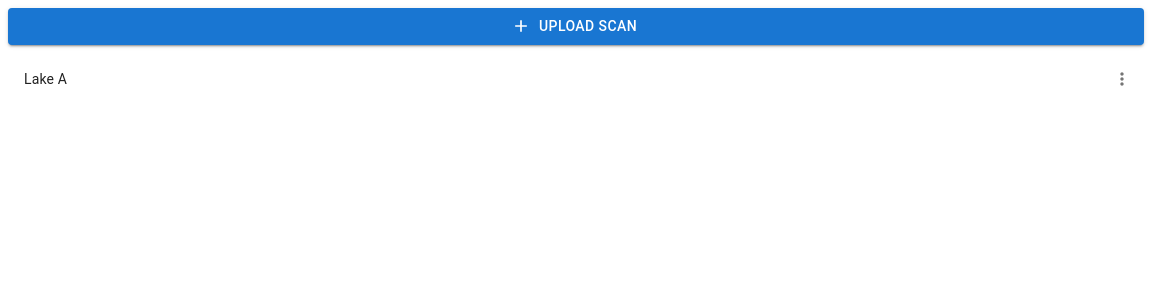
Scenario: <ScanLibrary/> › per-item menu: dismissing via Escape closes without dispatching either action
Later steps or results of the test are not shown.
Click the button named "more actions for lake a" at point(1122, 78), box [1104,60,1140,96]
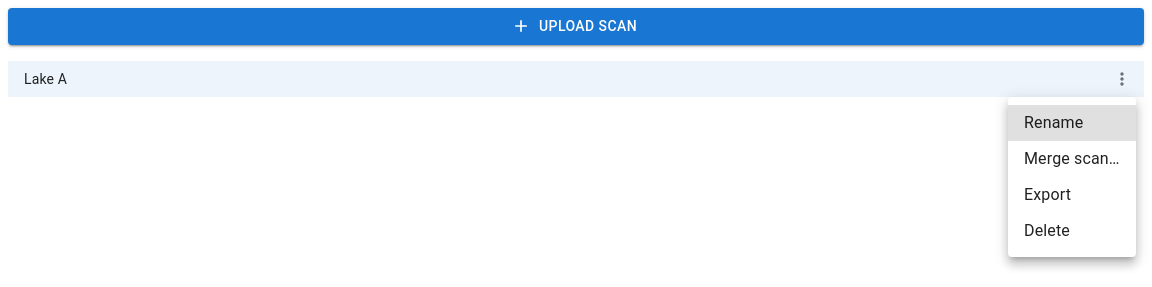
Now the menu is shown, box [1008,97,1136,257]
